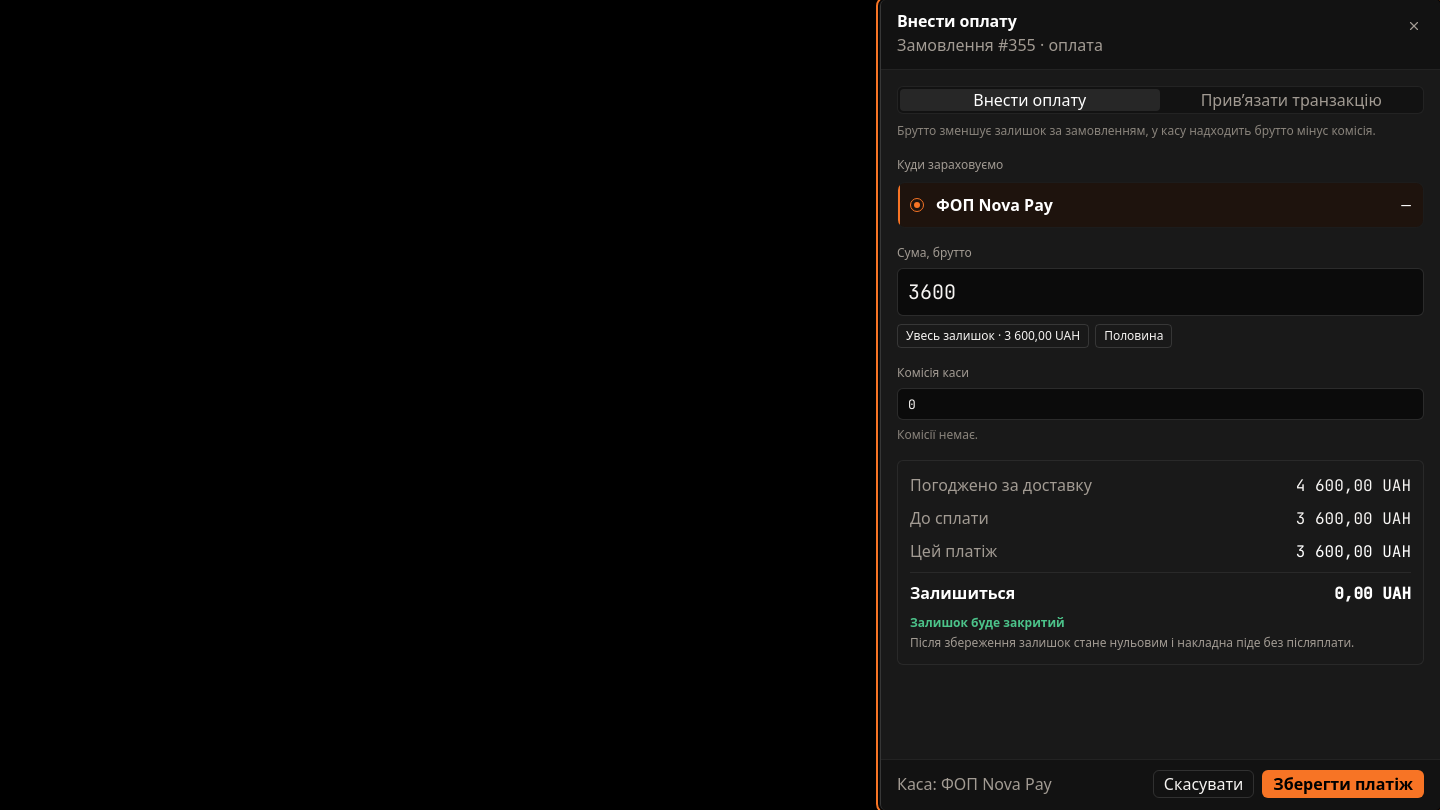
Test case: refuses a fee that swallows the whole payment
Replace the text in the field labelled "Комісія каси" with "3600" at (1160, 404), box [897,388,1424,420]
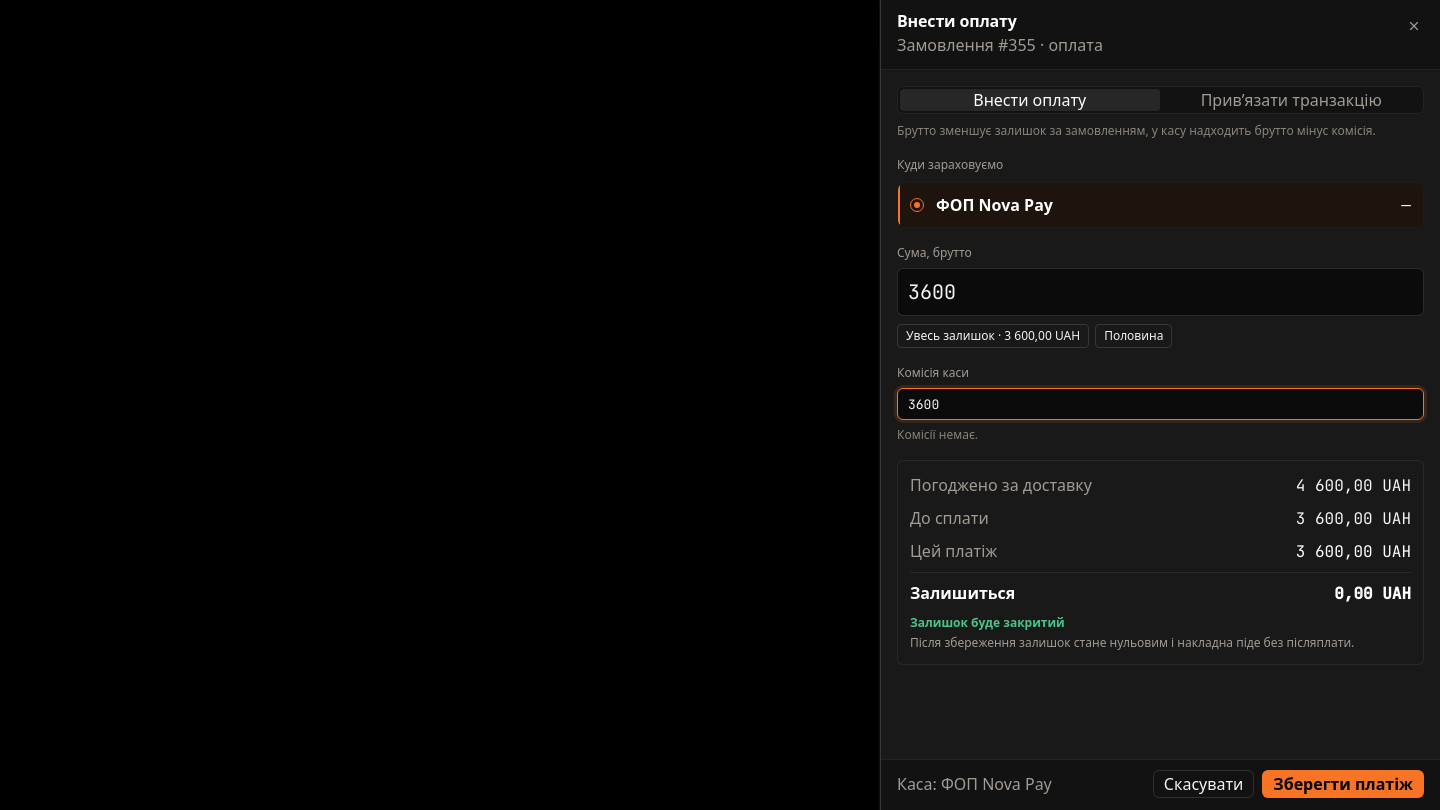
Click the button "Зберегти платіж" at (1343, 784), box [1262,770,1424,798]
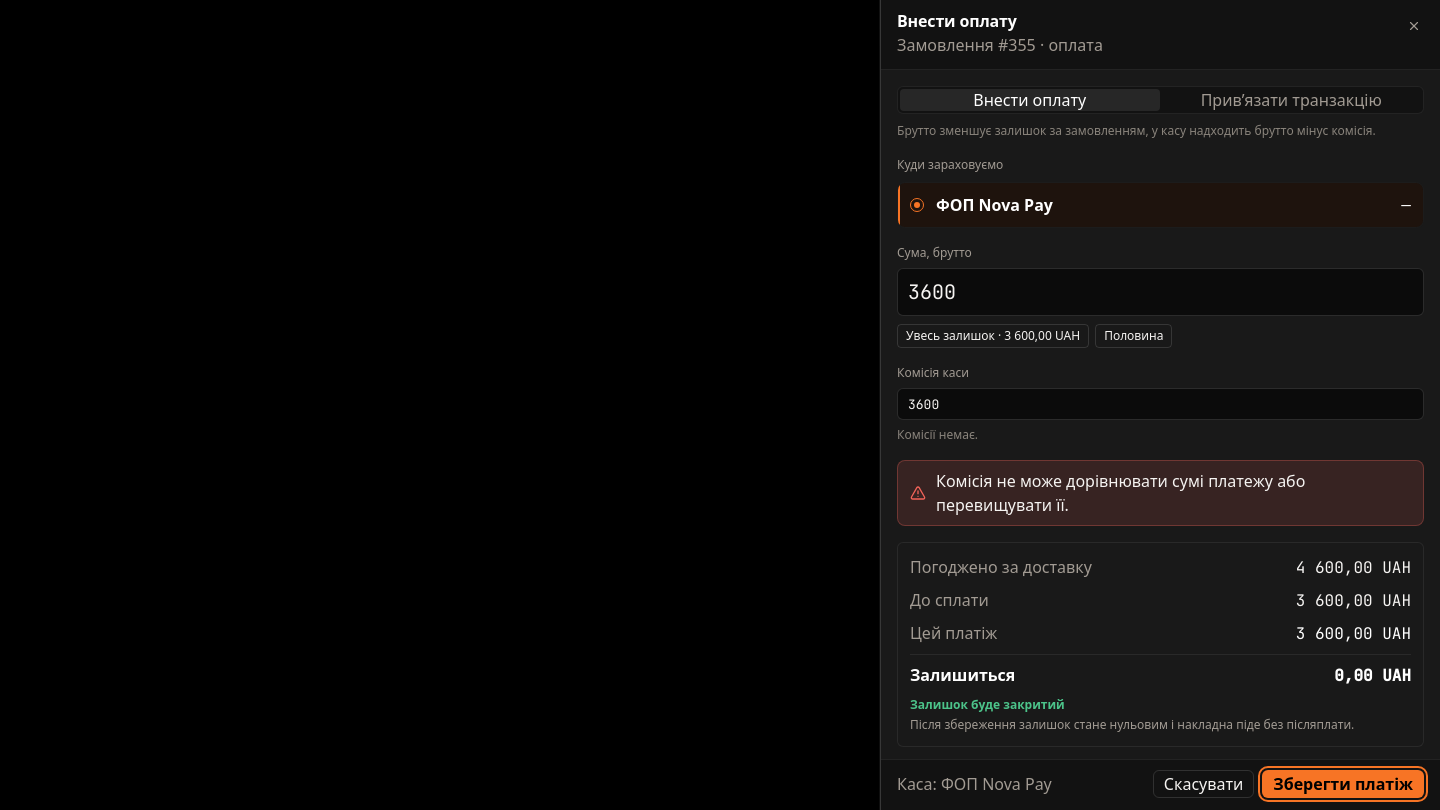
Check: the text "Комісія не може дорівнювати сумі платежу" is shown, box [936,470,1305,516]
